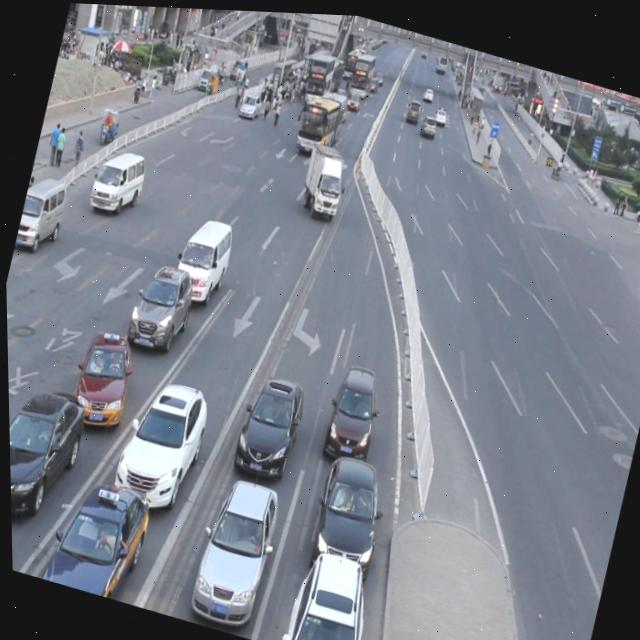bus: (295, 137, 350, 215)
car: (31, 459, 156, 604), (180, 460, 285, 630), (105, 361, 215, 516), (6, 367, 93, 529), (300, 440, 392, 574), (275, 533, 381, 640), (225, 361, 310, 481), (64, 320, 140, 433), (121, 249, 200, 355), (316, 355, 385, 466)
truck: (166, 208, 238, 308), (12, 169, 71, 255), (85, 142, 150, 219)
